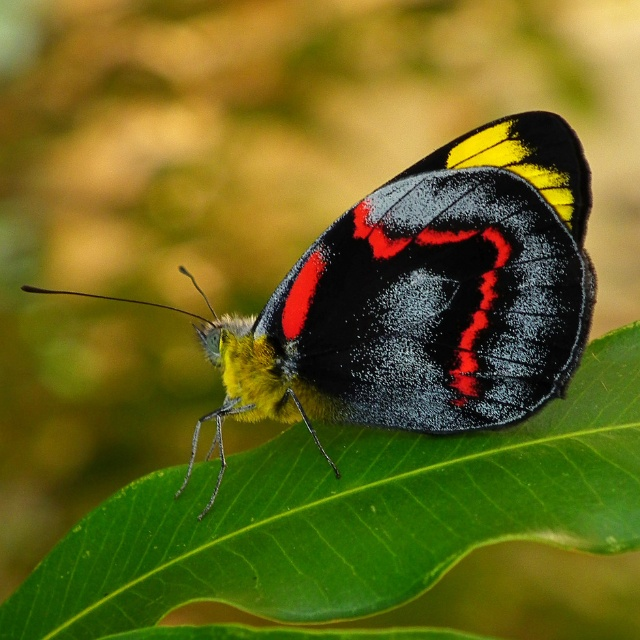Butterfly: (53, 97, 594, 477)
